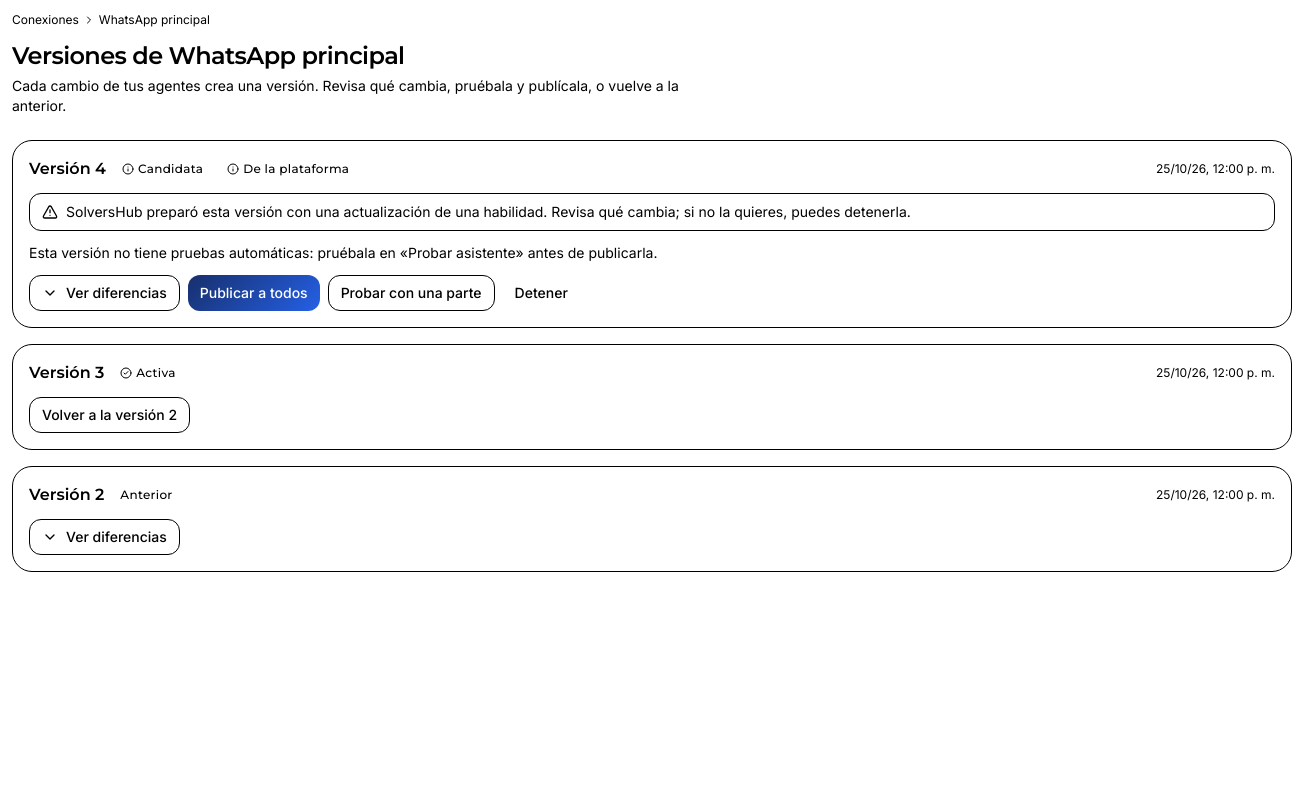
versiones de la conexión › ver diferencias trae el diff y lo explica
The image size is (1292, 812).
Click the button "Ver diferencias" below "Candidata" at [104, 293], box x1=29 y1=275 x2=180 y2=311
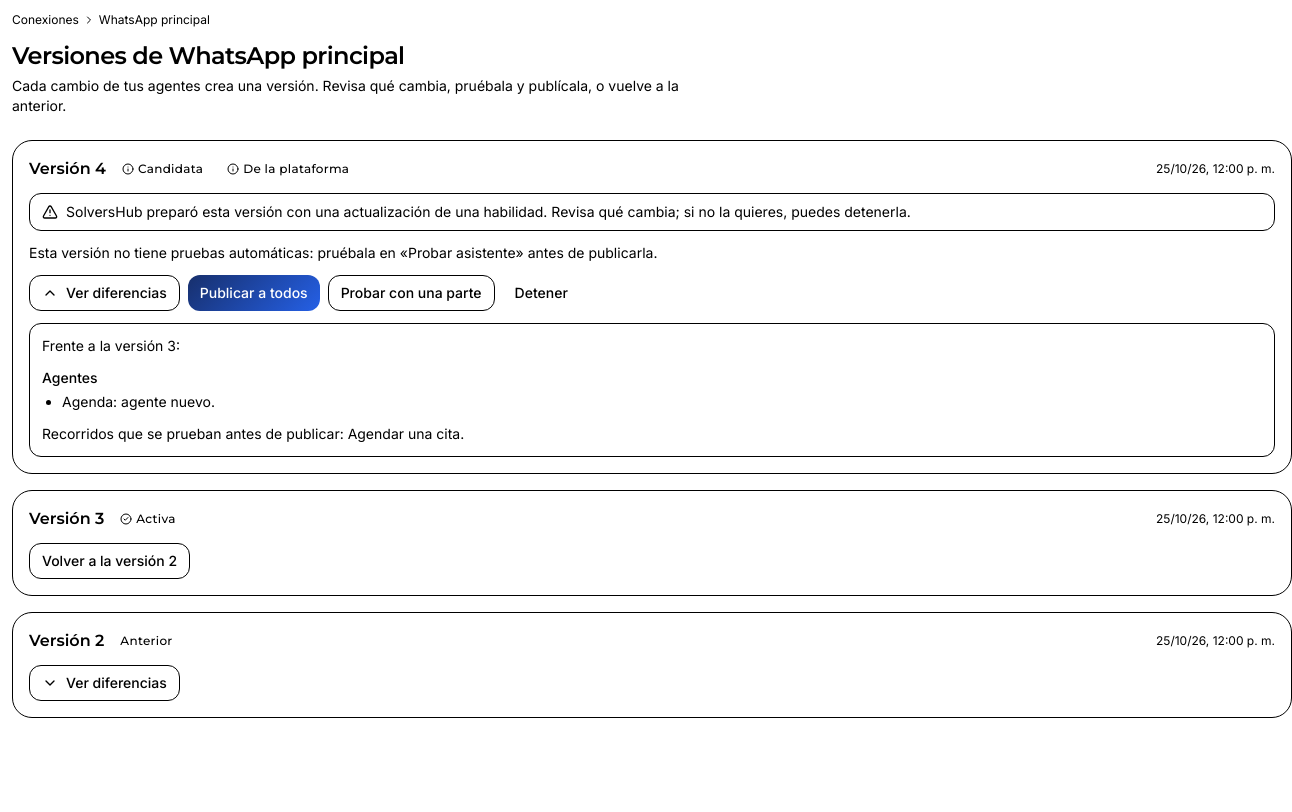
Now the list item "Agenda: agente nuevo." is shown, box x1=62 y1=393 x2=215 y2=410
Now the text "Agendar una cita" is shown, box x1=348 y1=425 x2=460 y2=442
